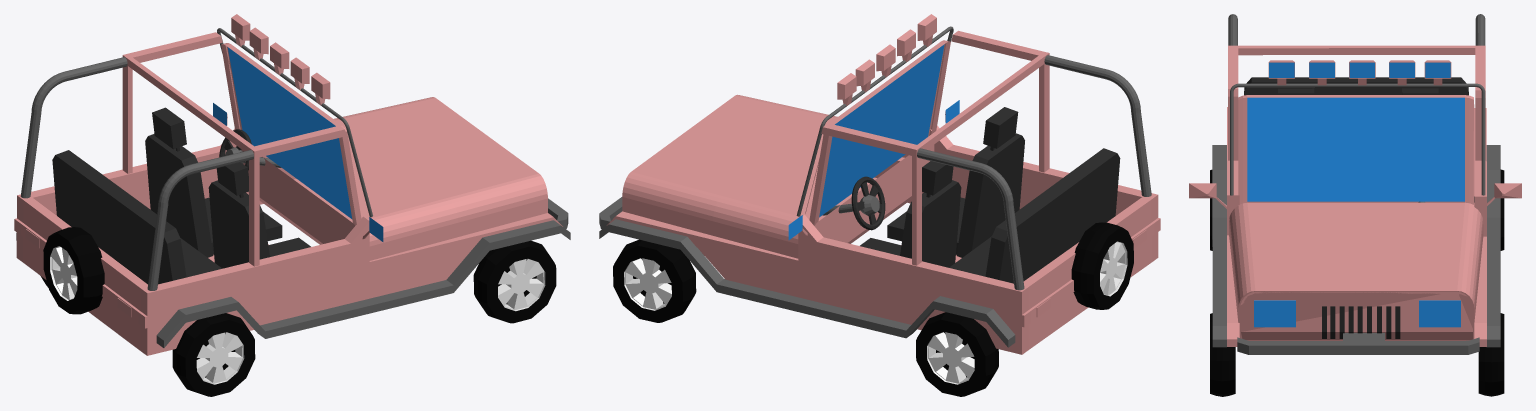
Rendered from car_edited.fbx.
3 views of the same model, side by side, from view 1: azimuth 30°, elevation 25°; view 2: azimuth 150°, elevation 25°; view 3: azimuth 270°, elevation 25° (orthographic). The views are drawn at different scales.
Parts seen in each view (by area): view 1: car3, car1, car5, car6, chair3, near2, chair1, wheel2, wheel4, chair2, car7, wheel5 (+11 smaller); view 2: car3, car2, car5, car1, chair3, near1, chair2, wheel1, wheel3, car6, chair1, wheel5 (+10 smaller); view 3: car3, car1, car4, window2, window4, window1, window3, near5, near3, near2, car6, near4 (+12 smaller).
Boxes of the visible parts, <box> form: car3: <box>343,97,547,236</box>; car1: <box>241,118,457,260</box>; car5: <box>14,170,253,355</box>; car6: <box>188,102,369,329</box>; chair3: <box>52,150,221,284</box>; near2: <box>156,220,570,347</box>; chair1: <box>145,107,282,257</box>; wheel2: <box>473,240,556,323</box>; wheel4: <box>172,313,255,396</box>; chair2: <box>208,154,310,268</box>; car7: <box>369,213,562,298</box>; wheel5: <box>43,227,104,314</box>; car3: <box>622,94,828,255</box>; car2: <box>606,211,923,324</box>; car5: <box>915,168,1160,354</box>; car1: <box>713,116,934,258</box>; chair3: <box>949,148,1120,283</box>; near1: <box>599,219,1015,347</box>; chair2: <box>887,107,1024,257</box>; wheel1: <box>613,239,696,322</box>; wheel3: <box>916,312,998,396</box>; car6: <box>901,30,1050,262</box>; chair1: <box>860,161,961,267</box>; wheel5: <box>1071,222,1133,309</box>; car3: <box>1233,246,1478,340</box>; car1: <box>1229,201,1483,276</box>; car4: <box>1240,291,1472,339</box>; window2: <box>1247,97,1356,154</box>; window4: <box>1356,144,1464,201</box>; window1: <box>1247,149,1356,201</box>; window3: <box>1356,97,1464,148</box>; near5: <box>1230,60,1485,195</box>; near3: <box>1237,333,1479,354</box>; near2: <box>1212,145,1226,347</box>; car6: <box>1227,45,1356,235</box>; near4: <box>1238,95,1474,204</box>.
Bounding box in the file's own units: 286 × 157 × 187.
